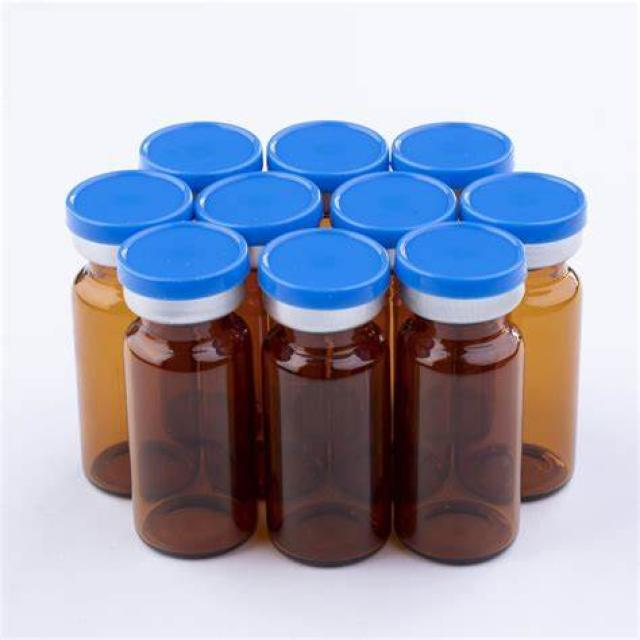vial: (193, 172, 324, 228), (269, 230, 392, 286), (124, 225, 246, 280), (408, 232, 516, 292), (391, 119, 512, 171), (60, 173, 192, 220), (464, 180, 582, 232), (146, 120, 264, 172), (337, 178, 459, 227), (270, 123, 386, 171)
